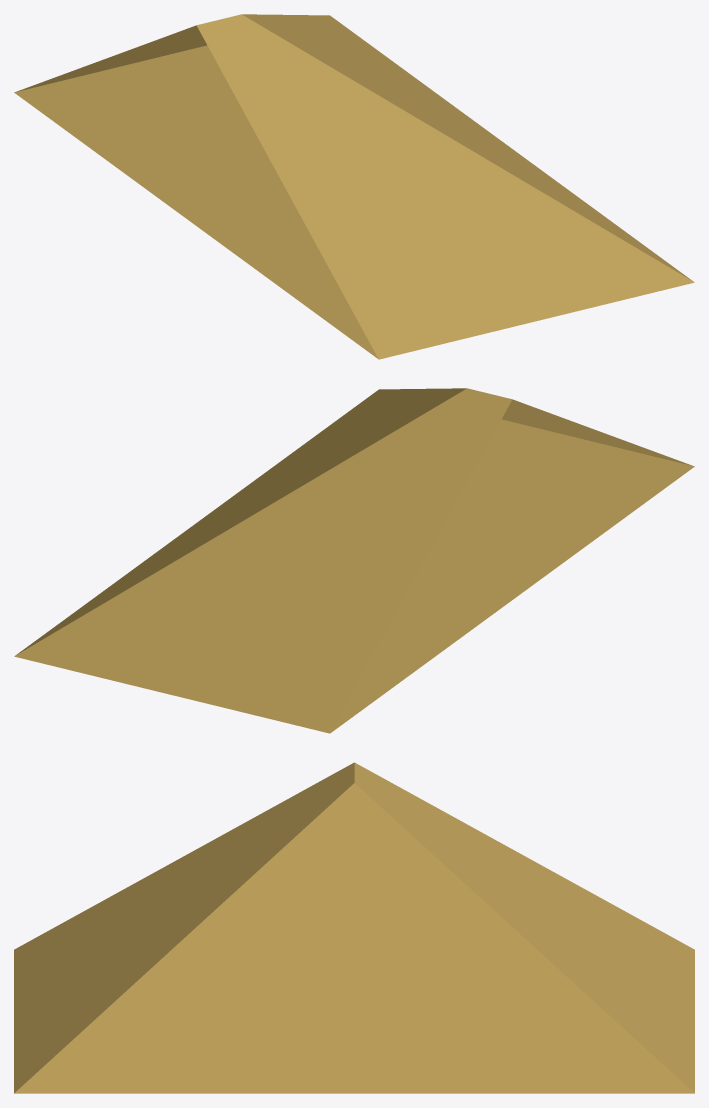
Rendered from hanok_choga_roof_hip_end.glb.
3 renders of one model, top to bottom at view 1: azimuth 30°, elevation 25°; view 2: azimuth 150°, elevation 25°; view 3: azimuth 270°, elevation 25°, orthographic. The views are drawn at different scales.
Visible parts, largest first — view 1: hanok_choga_roof_hip_end; view 2: hanok_choga_roof_hip_end; view 3: hanok_choga_roof_hip_end.
Boxes of the visible parts, left/top/right/bottom form: hanok_choga_roof_hip_end: left=14, top=14, right=694, bottom=359; hanok_choga_roof_hip_end: left=14, top=388, right=694, bottom=733; hanok_choga_roof_hip_end: left=14, top=762, right=694, bottom=1093.
Size of the model in its own units: 2.8 by 1.7 by 5.6.
